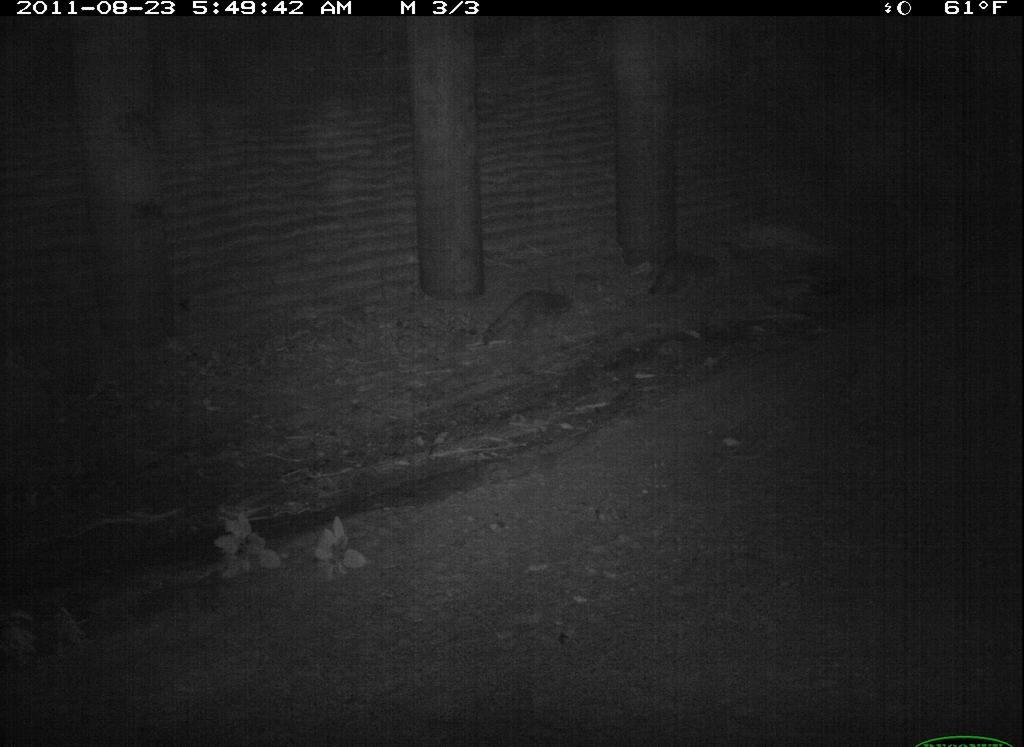raccoon: (951, 562, 1024, 708)
